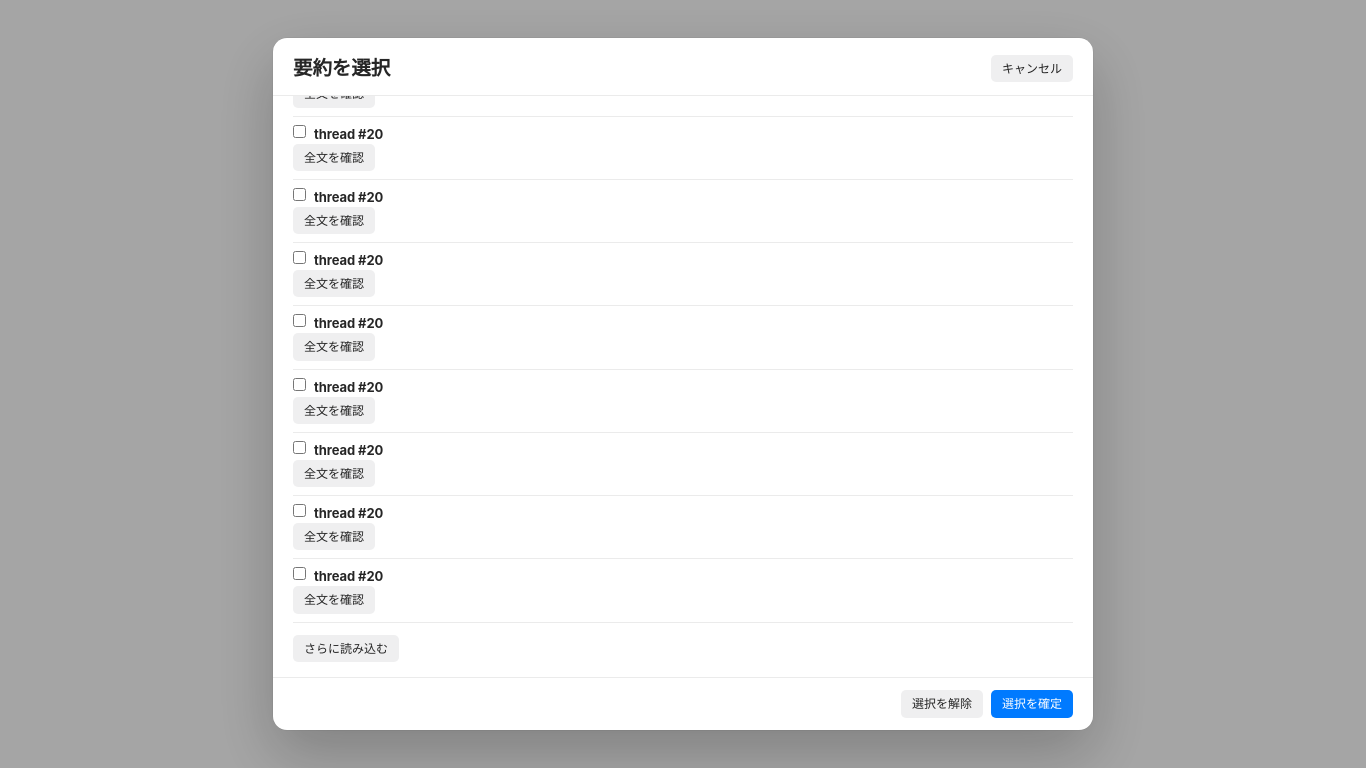
Test: SummarySelectionModal › resets loading-more and ignores an old load-more failure after switching tabs
(page scrolled)
What coordinates should you click on to do the following:
click the button "さらに読み込む"
I would click on:
 (346, 648)
Its box is [293,635,399,662].
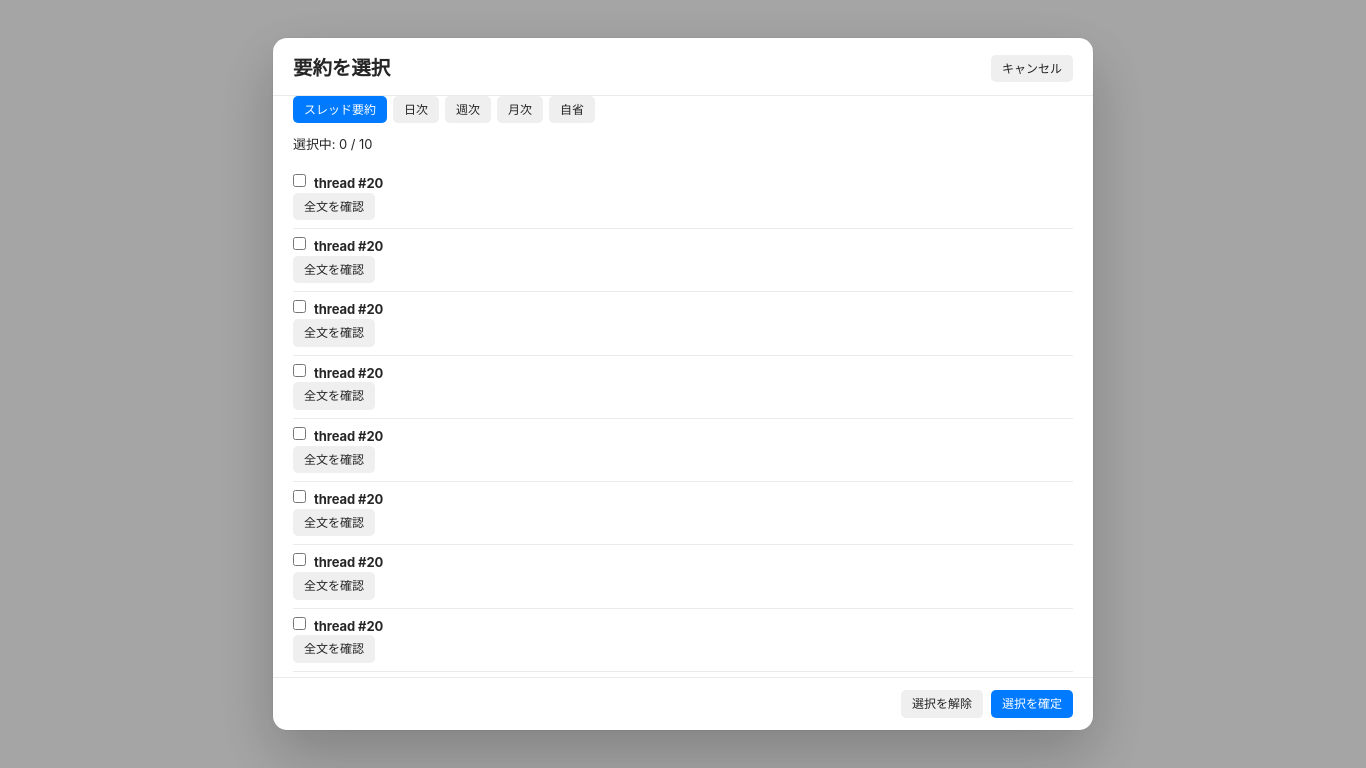
What coordinates should you click on to do the following:
click the tab "日次"
I would click on:
 (416, 109)
Its box is [393,96,439,123].
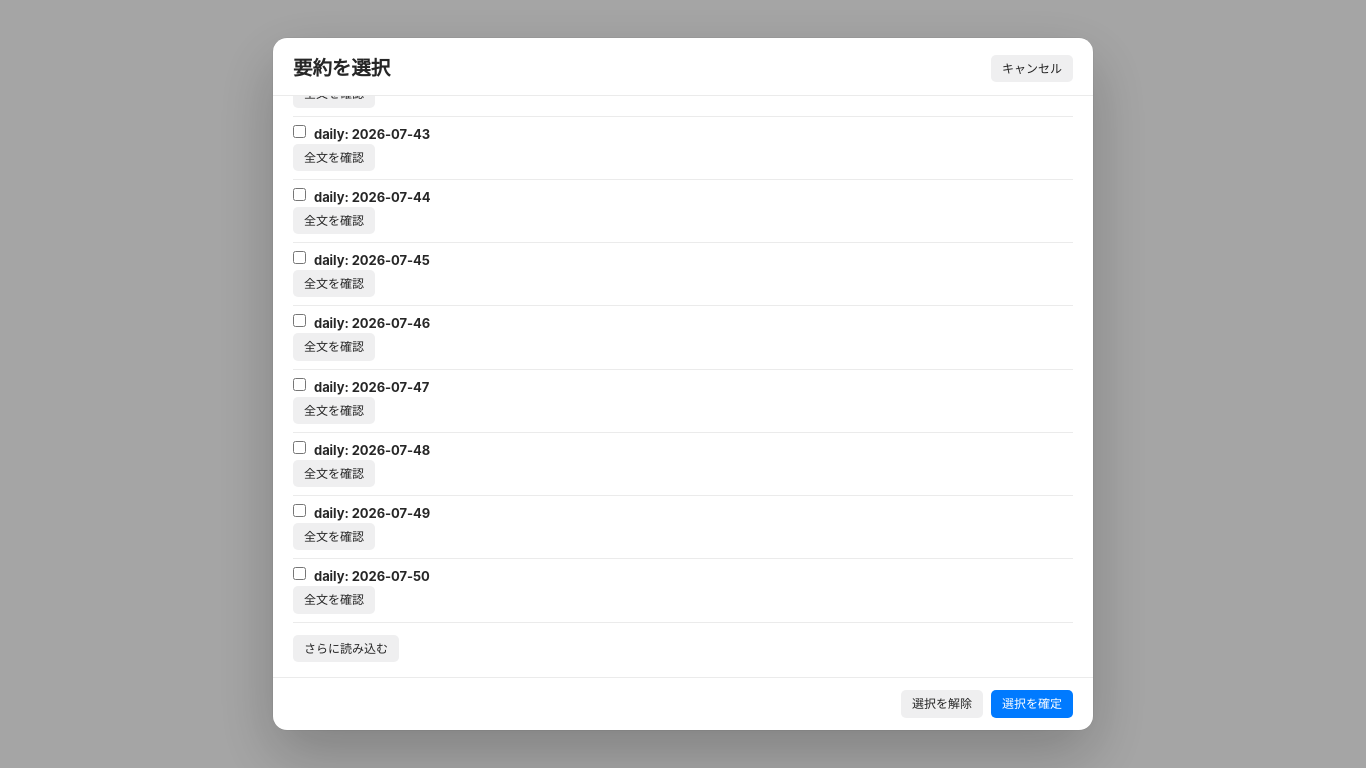
Check: the button "さらに読み込む" is enabled, box [293,635,399,662]
